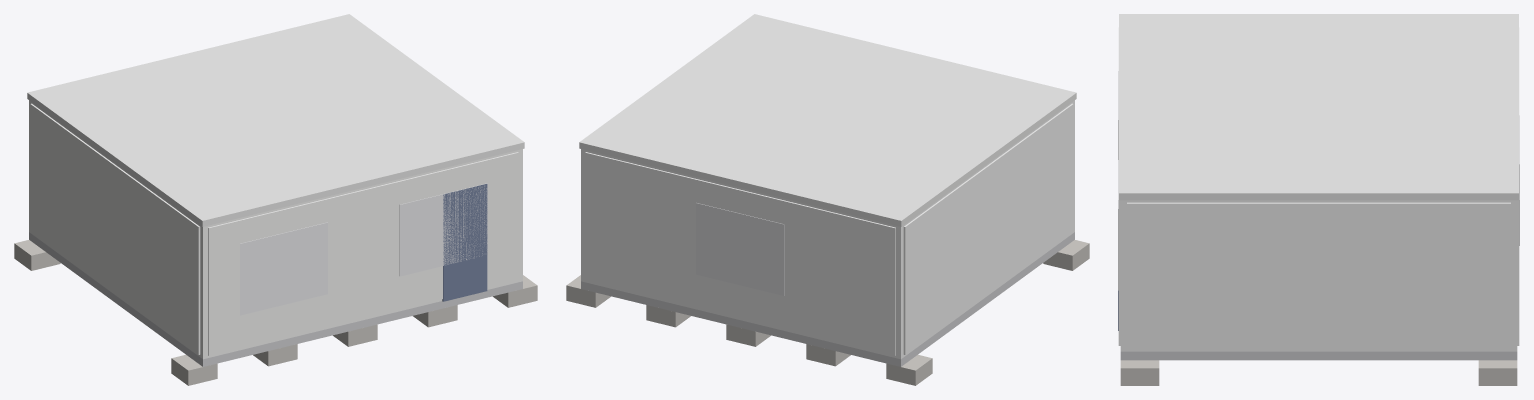
The model's file is Studio-20-Premium-LOD1.glb.
3 views of the same model, side by side, from view 1: azimuth 30°, elevation 25°; view 2: azimuth 150°, elevation 25°; view 3: azimuth 270°, elevation 25° (orthographic). The views are drawn at different scales.
Parts seen in each view (by area): view 1: RoofMain, ExteriorPanelsPremium, WindowsLargeUpgrade, EntryDoor, FoundationBlocks, BaseFrame, ExteriorShell; view 2: RoofMain, ExteriorPanelsPremium, WindowsLargeUpgrade, FoundationBlocks, BaseFrame, ExteriorShell; view 3: RoofMain, ExteriorPanelsPremium, ExteriorShell, BaseFrame, FoundationBlocks, WindowsLargeUpgrade.
Boxes of the visible parts, x1=… form: RoofMain: x1=27, y1=14, x2=524, y2=226; ExteriorPanelsPremium: x1=30, y1=103, x2=518, y2=355; WindowsLargeUpgrade: x1=240, y1=183, x2=487, y2=315; EntryDoor: x1=442, y1=184, x2=487, y2=301; FoundationBlocks: x1=14, y1=240, x2=537, y2=385; BaseFrame: x1=29, y1=232, x2=522, y2=366; ExteriorShell: x1=29, y1=100, x2=522, y2=359; RoofMain: x1=579, y1=14, x2=1076, y2=226; ExteriorPanelsPremium: x1=585, y1=103, x2=1073, y2=355; WindowsLargeUpgrade: x1=696, y1=203, x2=784, y2=295; FoundationBlocks: x1=566, y1=240, x2=1089, y2=385; BaseFrame: x1=581, y1=232, x2=1074, y2=366; ExteriorShell: x1=581, y1=100, x2=1074, y2=359; RoofMain: x1=1119, y1=14, x2=1518, y2=200; ExteriorPanelsPremium: x1=1118, y1=27, x2=1519, y2=349; ExteriorShell: x1=1120, y1=200, x2=1517, y2=351; BaseFrame: x1=1120, y1=351, x2=1517, y2=360; FoundationBlocks: x1=1120, y1=360, x2=1517, y2=385; WindowsLargeUpgrade: x1=1118, y1=71, x2=1519, y2=290.
Size of the model in its own units: 7.14 by 3.17 by 6.24.
